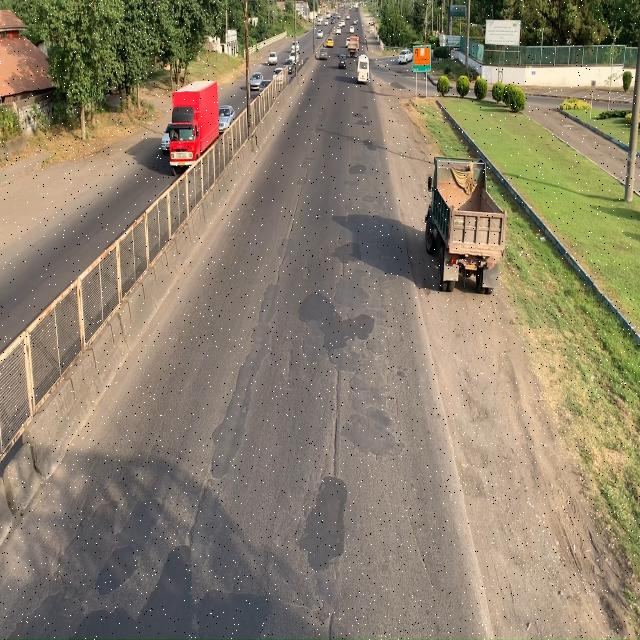Truck: (424, 156, 508, 298), (171, 83, 215, 169)
cars: (219, 106, 233, 129)
